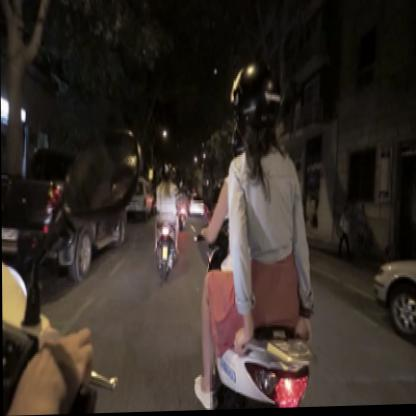With Helmet: (230, 63, 277, 153), (161, 160, 172, 180)
